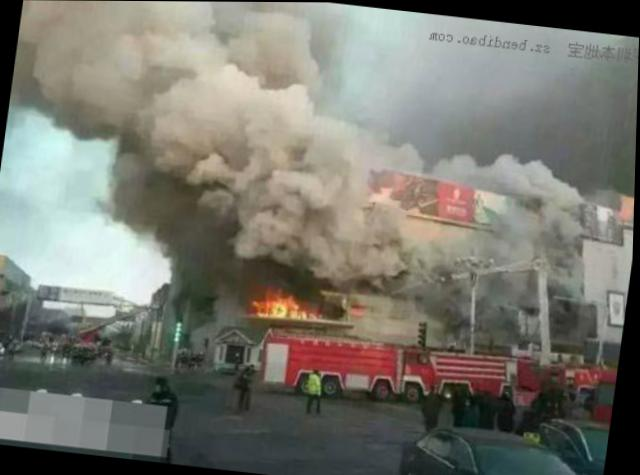fire: (261, 288, 314, 316)
